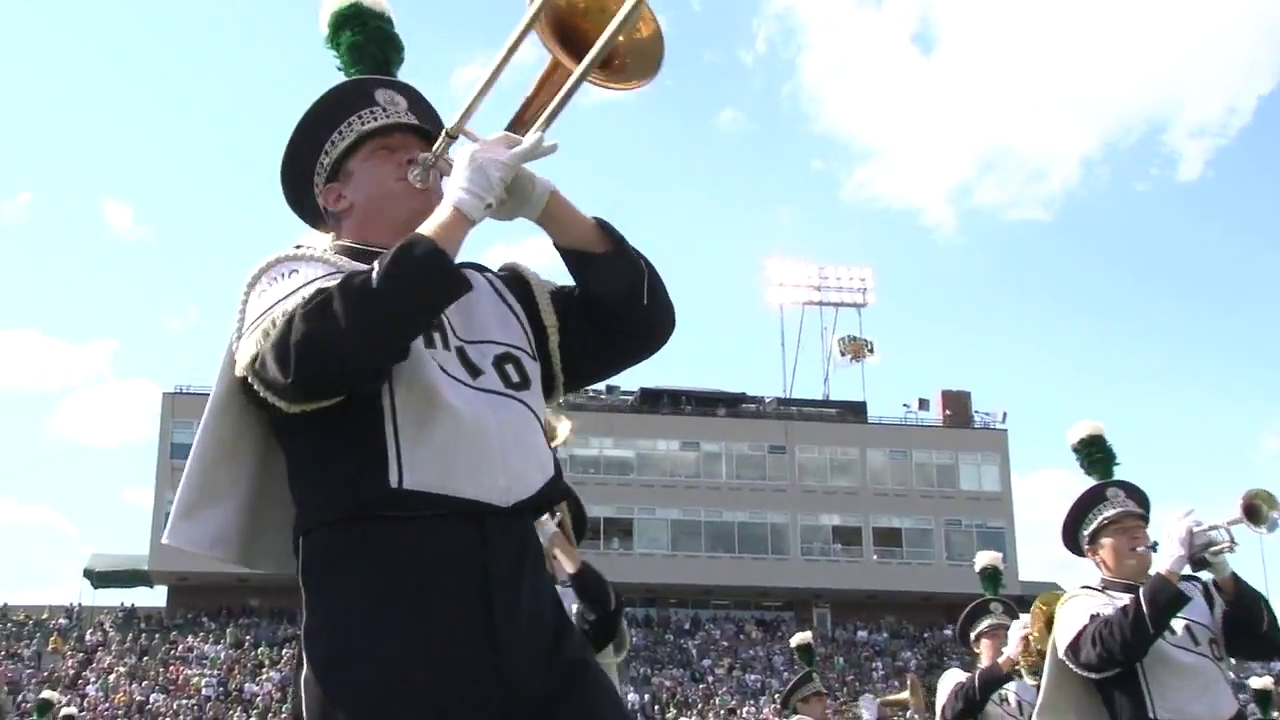person: (232, 2, 675, 720), (1058, 478, 1280, 719)
